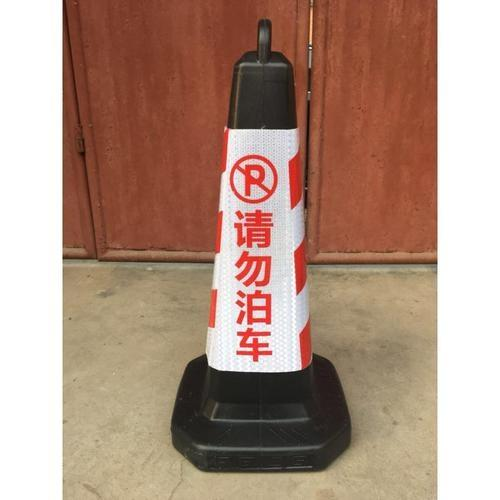cone_barrel: (161, 30, 350, 472)
